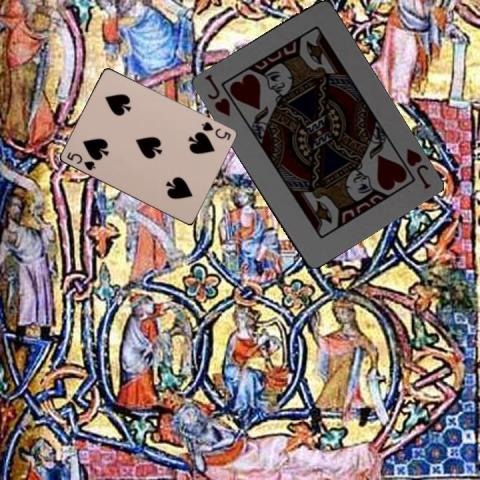5s: (198, 119, 232, 142), (64, 149, 97, 172)
Jh: (202, 71, 232, 118), (403, 144, 432, 190)
